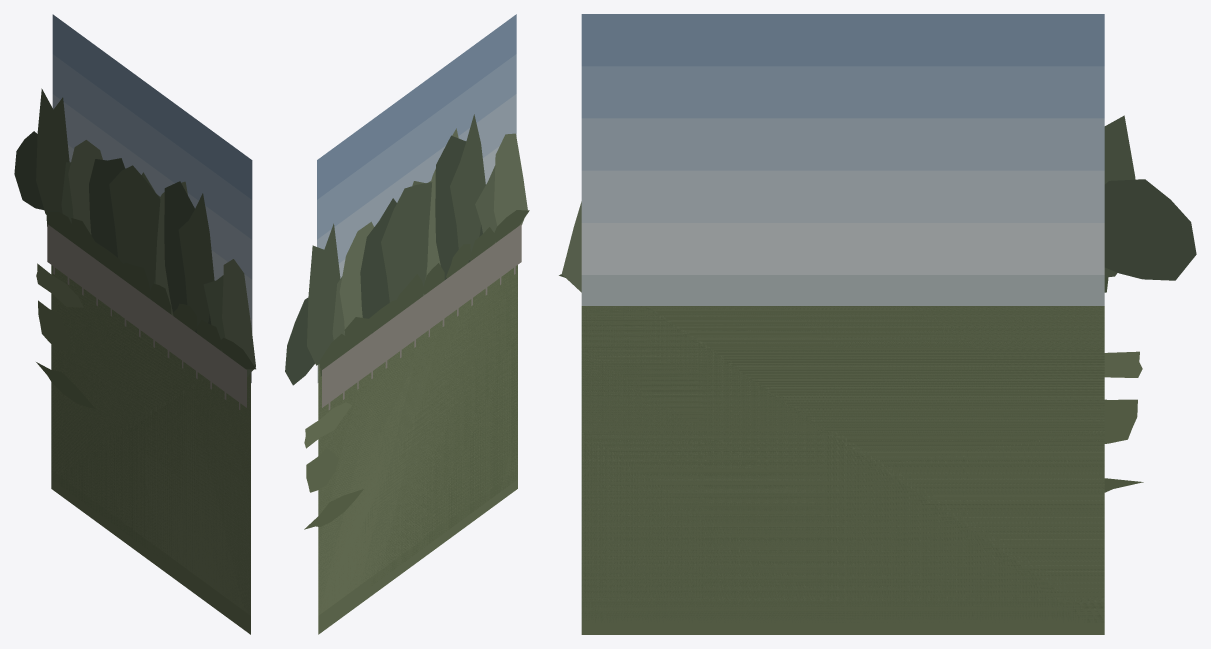
The model's file is view_e5.glb.
3 renders of one model, left to right at view 1: azimuth 30°, elevation 25°; view 2: azimuth 150°, elevation 25°; view 3: azimuth 270°, elevation 25°, orthographic. The views are drawn at different scales.
Parts seen in each view (by area): view 1: root; view 2: root; view 3: root.
Boxes of the visible parts, x1,y1,x2,y2 form: root: [14, 14, 255, 634]; root: [285, 14, 529, 634]; root: [559, 14, 1196, 634].
Size of the model in its own units: 0.0213 by 1.8 by 1.67.
